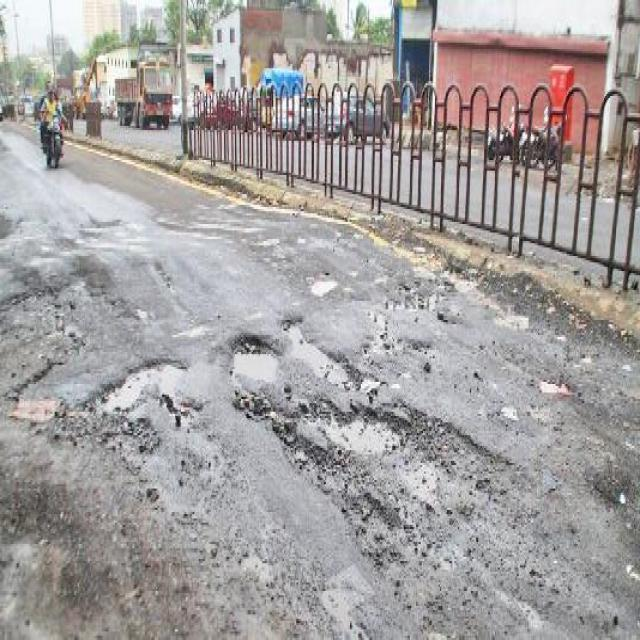pothole: (271, 399, 511, 497), (261, 310, 363, 404), (288, 395, 409, 468), (78, 350, 193, 425), (88, 356, 191, 418), (280, 312, 355, 387), (227, 331, 282, 387), (230, 334, 277, 386), (385, 283, 447, 315), (386, 286, 446, 314), (10, 391, 62, 421), (14, 395, 58, 422), (311, 271, 340, 299), (310, 276, 336, 298)
